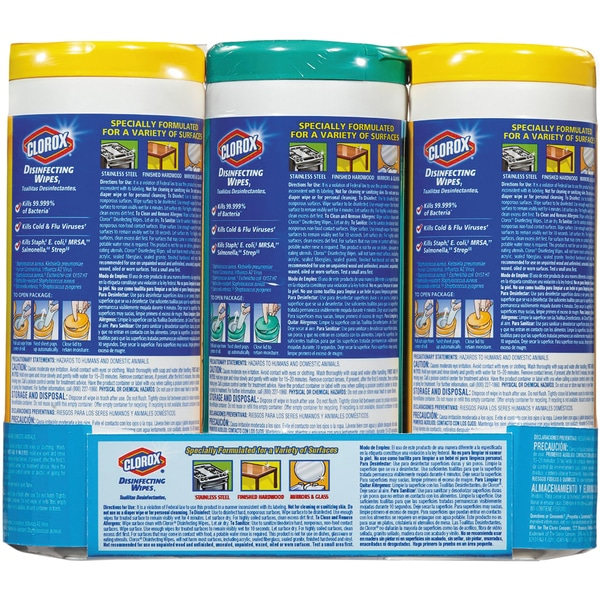Wipes: (203, 38, 412, 562), (1, 38, 205, 564), (397, 38, 599, 565)
